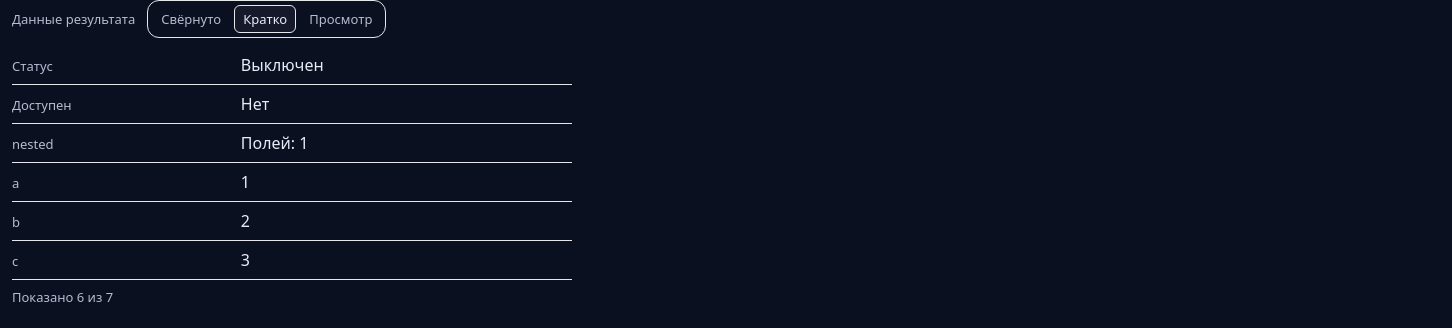
periodic run result view › previews objects by default and keeps their complete result available
Expected: the text "Выключен" is shown, [241, 54, 324, 76]
Expected: the text "Нет" is shown, [241, 93, 269, 115]
Step 1. Click the button "Просмотр" → (341, 19), box [300, 5, 381, 33]
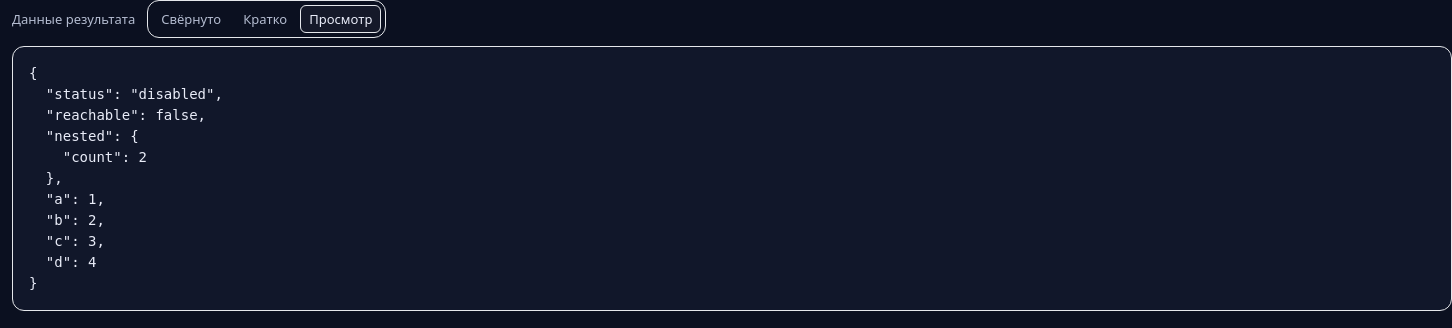
Expected: the text "\"d\": 4" is shown, [29, 65, 223, 291]
